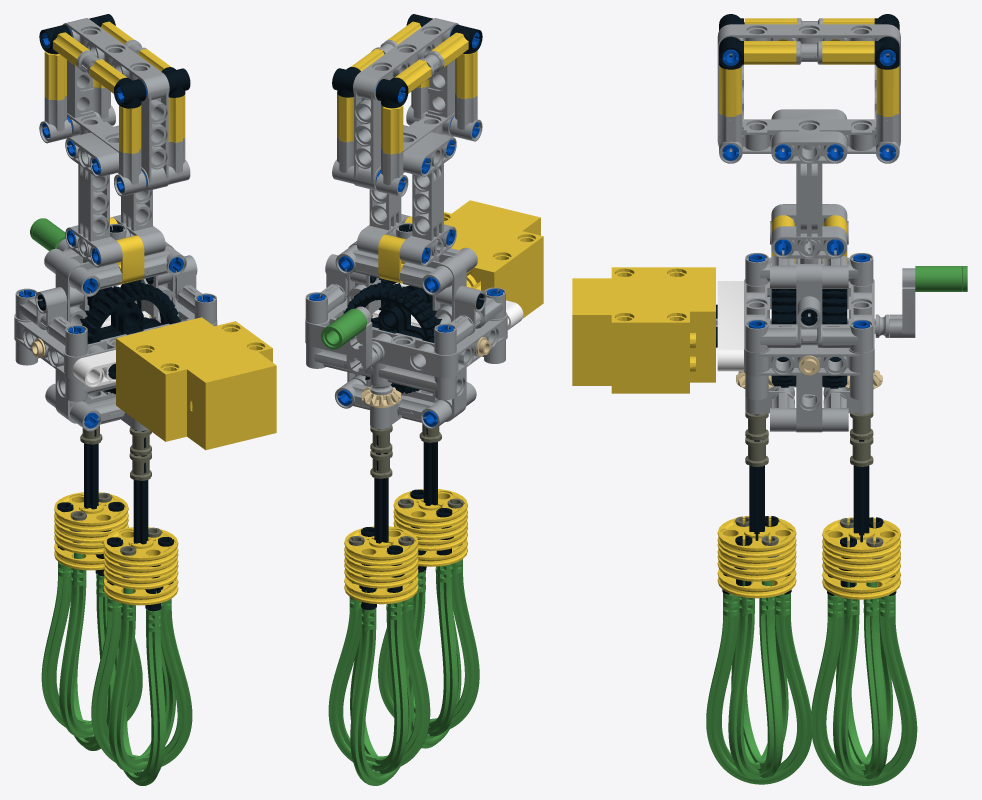
The model's file is Cookie_Whisk.glb.
3 views of the same model, side by side, from view 1: azimuth 30°, elevation 25°; view 2: azimuth 150°, elevation 25°; view 3: azimuth 270°, elevation 25° (orthographic). The views are drawn at different scales.
Visible parts, largest first — view 1: Cookie_Whisk; view 2: Cookie_Whisk; view 3: Cookie_Whisk.
Boxes of the visible parts, box(x1,y1,x2,y2) form: Cookie_Whisk: box(14, 14, 276, 785); Cookie_Whisk: box(305, 14, 543, 785); Cookie_Whisk: box(572, 14, 967, 785).
Bounding box in the file's own units: 151 × 639 × 302.
